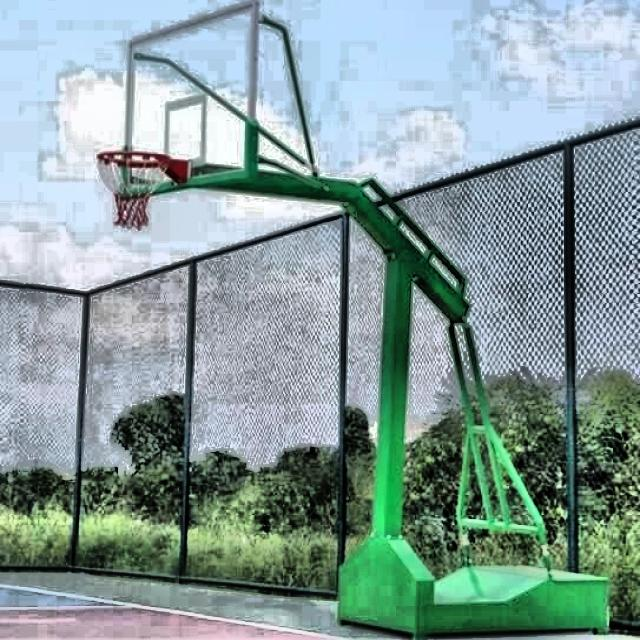rim: (98, 150, 170, 229)
